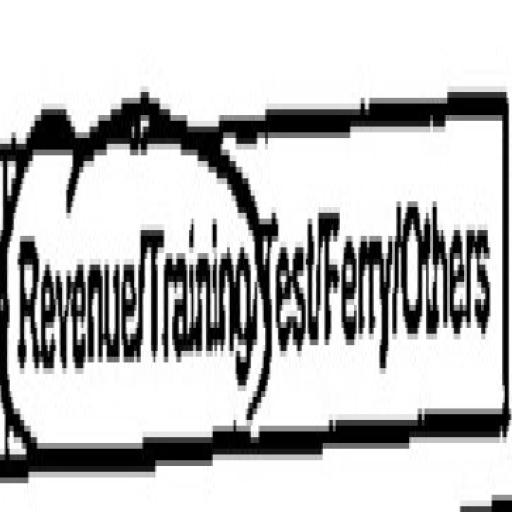check: (1, 64, 139, 512), (142, 62, 258, 512)
